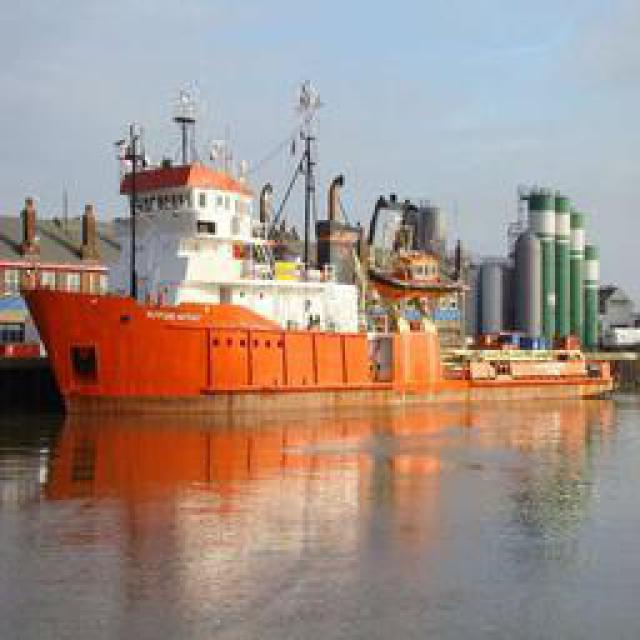Ship: (31, 75, 439, 398)
